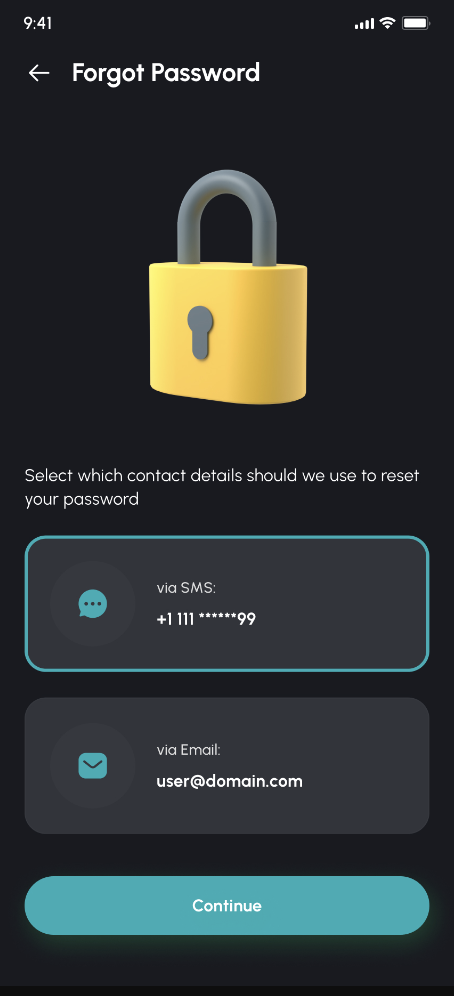AppBar: (1, 34, 454, 98)
